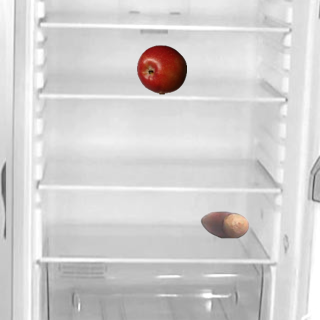Apple Braeburn: (136, 44, 186, 94)
Hazelnut: (199, 199, 249, 249)
